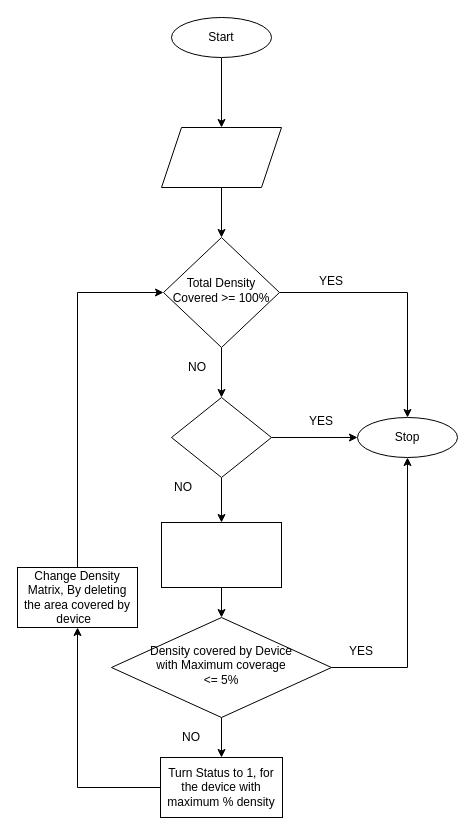
The diagram is 475 pixels wide and 835 high, and some of its shapes have lost their labels. Here are the shapes that lost their labels. From the top down, the centre of each, then its label:
At pixel 221 157: "Device Info Density Matrix".
At pixel 221 437: "Status of ALL fans ==1".
At pixel 221 555: "Calculate % Density covered by each Device".
